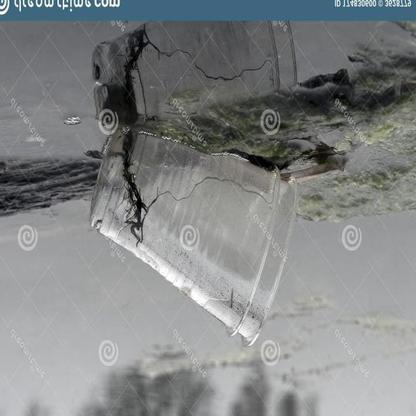plastic bottle: (89, 124, 298, 346)
